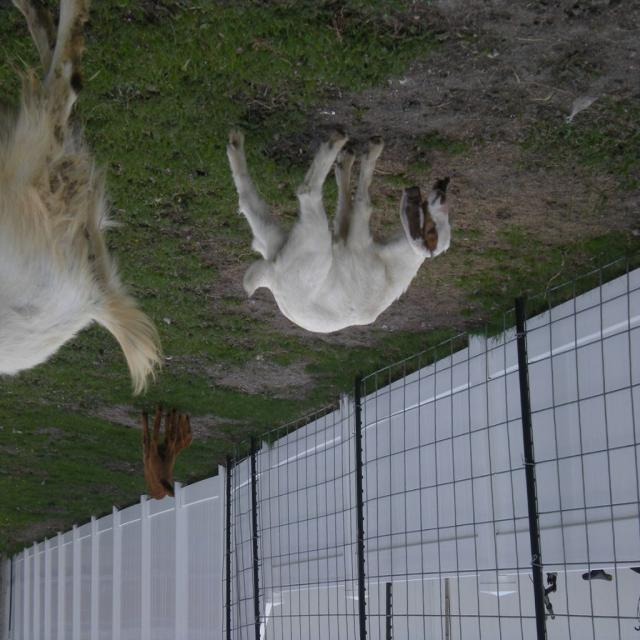Goat: (0, 2, 165, 398), (225, 127, 451, 335), (140, 403, 192, 502)
